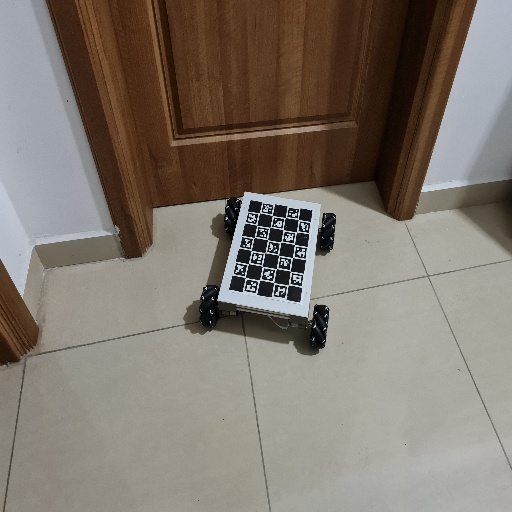Omniwheel: (197, 189, 339, 353)
